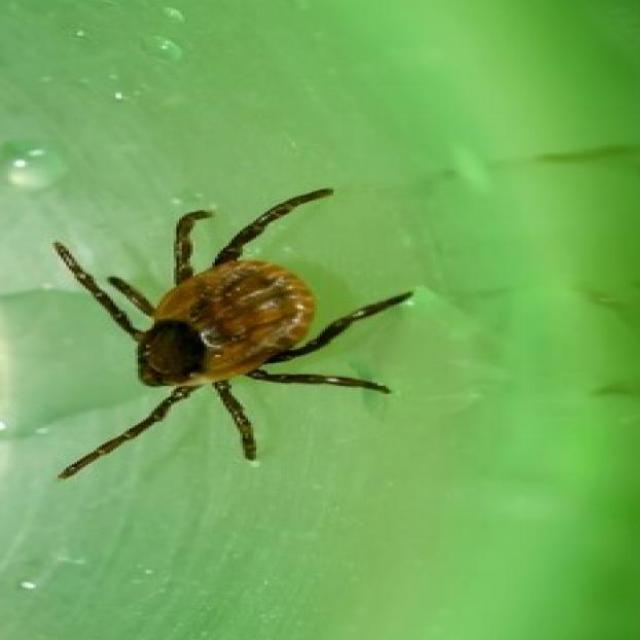Rhipicephalus Sanguineus-F: (52, 187, 413, 477)
